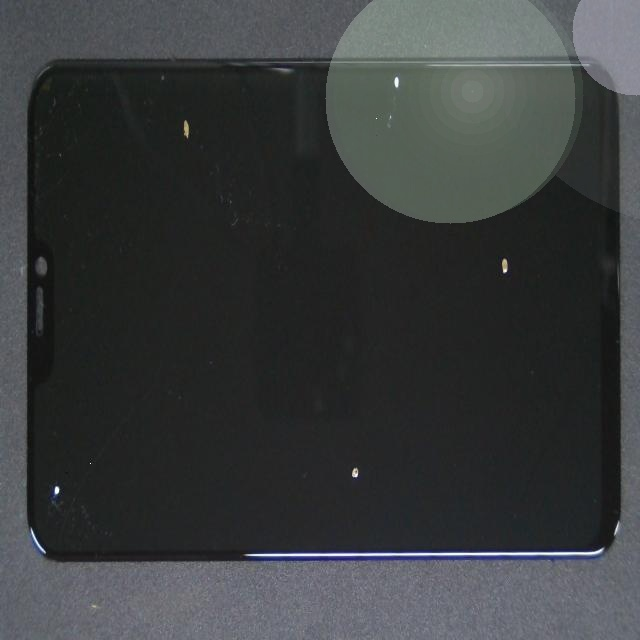stain: (155, 206, 508, 640), (231, 113, 640, 421), (205, 130, 608, 202), (27, 183, 71, 640), (114, 38, 287, 147)
